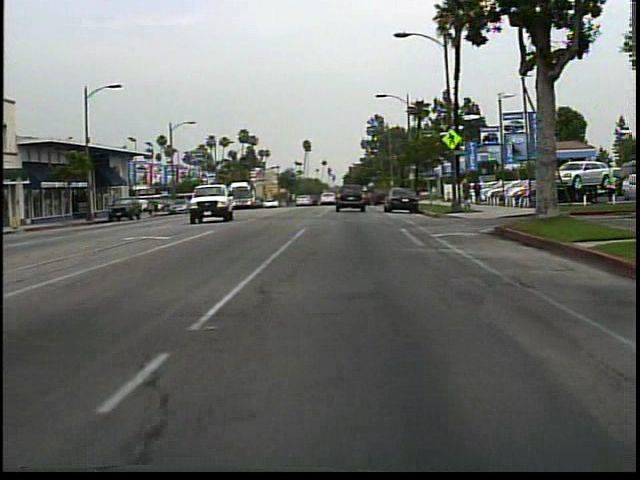person: (542, 176, 565, 220)
